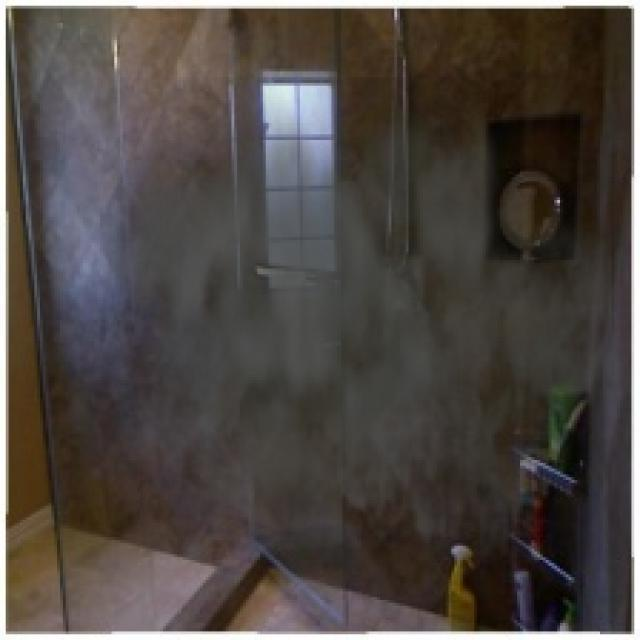Smoke: (86, 77, 612, 606)
